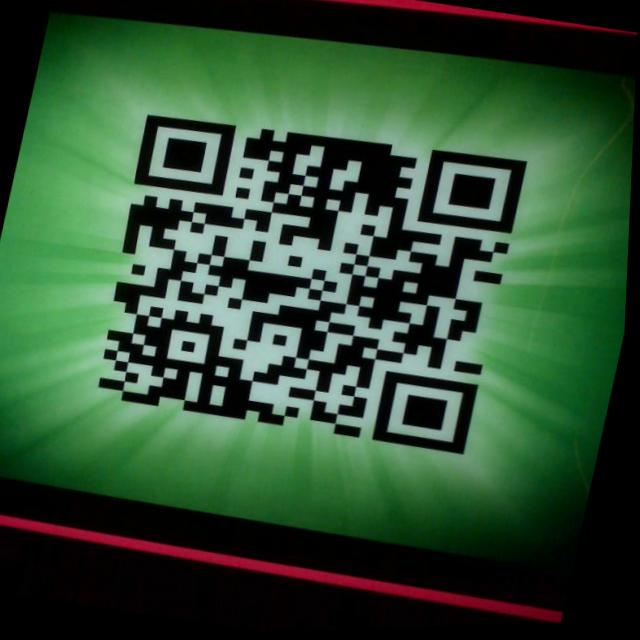qrcode: (86, 99, 530, 467)
